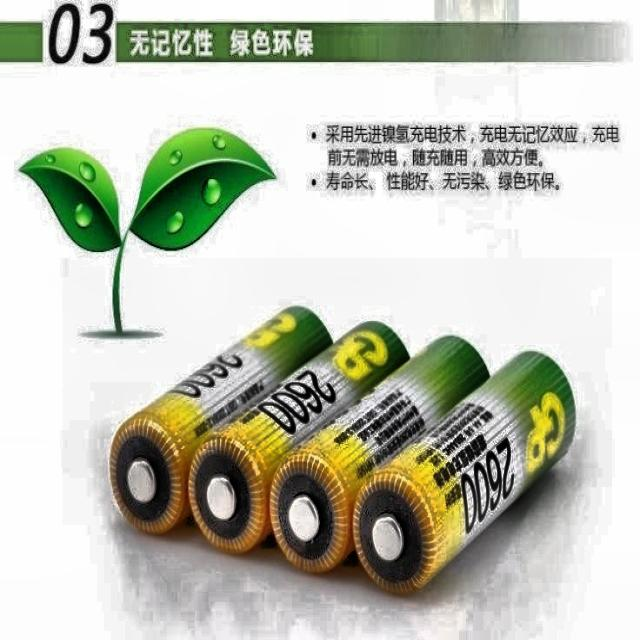Non-Valuable Waste - Batteries: (352, 352, 575, 593), (270, 336, 488, 572), (189, 323, 408, 554), (110, 307, 331, 533)
